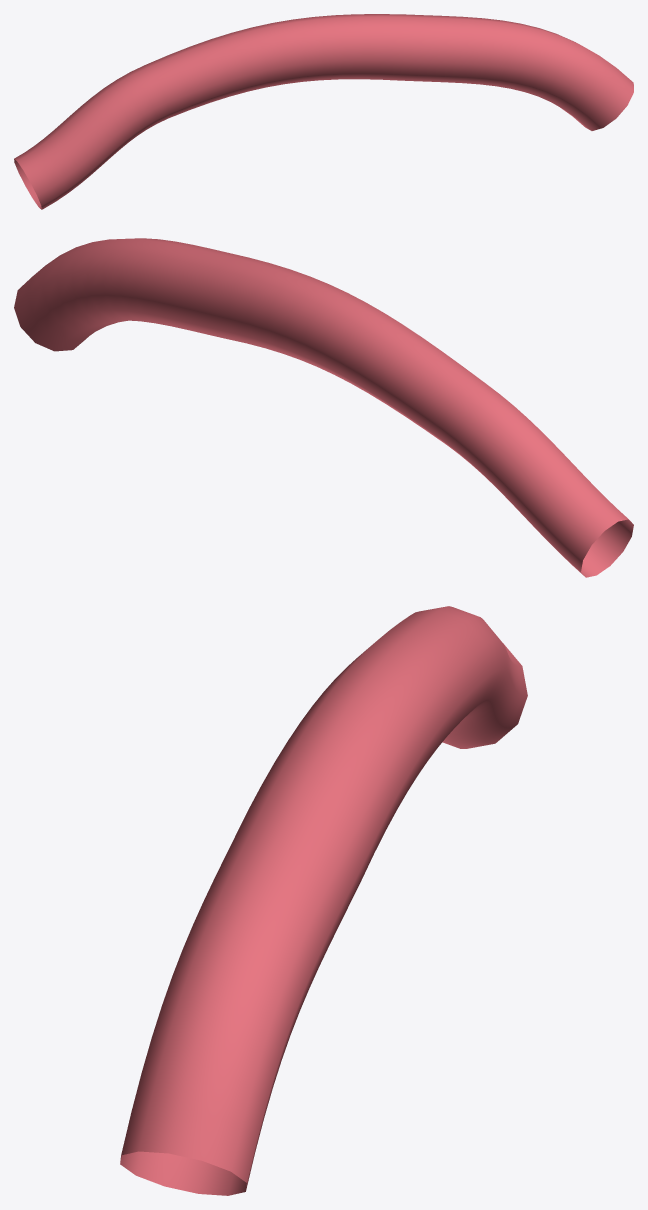
3 renders of one model, top to bottom at view 1: azimuth 30°, elevation 25°; view 2: azimuth 150°, elevation 25°; view 3: azimuth 270°, elevation 25°, orthographic. The views are drawn at different scales.
Visible parts, largest first — view 1: ZA_8e85f99341227a72; view 2: ZA_8e85f99341227a72; view 3: ZA_8e85f99341227a72.
Boxes of the visible parts, left/top/right/bottom form: ZA_8e85f99341227a72: left=14, top=14, right=633, bottom=209; ZA_8e85f99341227a72: left=14, top=238, right=633, bottom=577; ZA_8e85f99341227a72: left=120, top=606, right=527, bottom=1195.
Bounding box in the file's own units: 0.0752 × 0.0195 × 0.0245.
